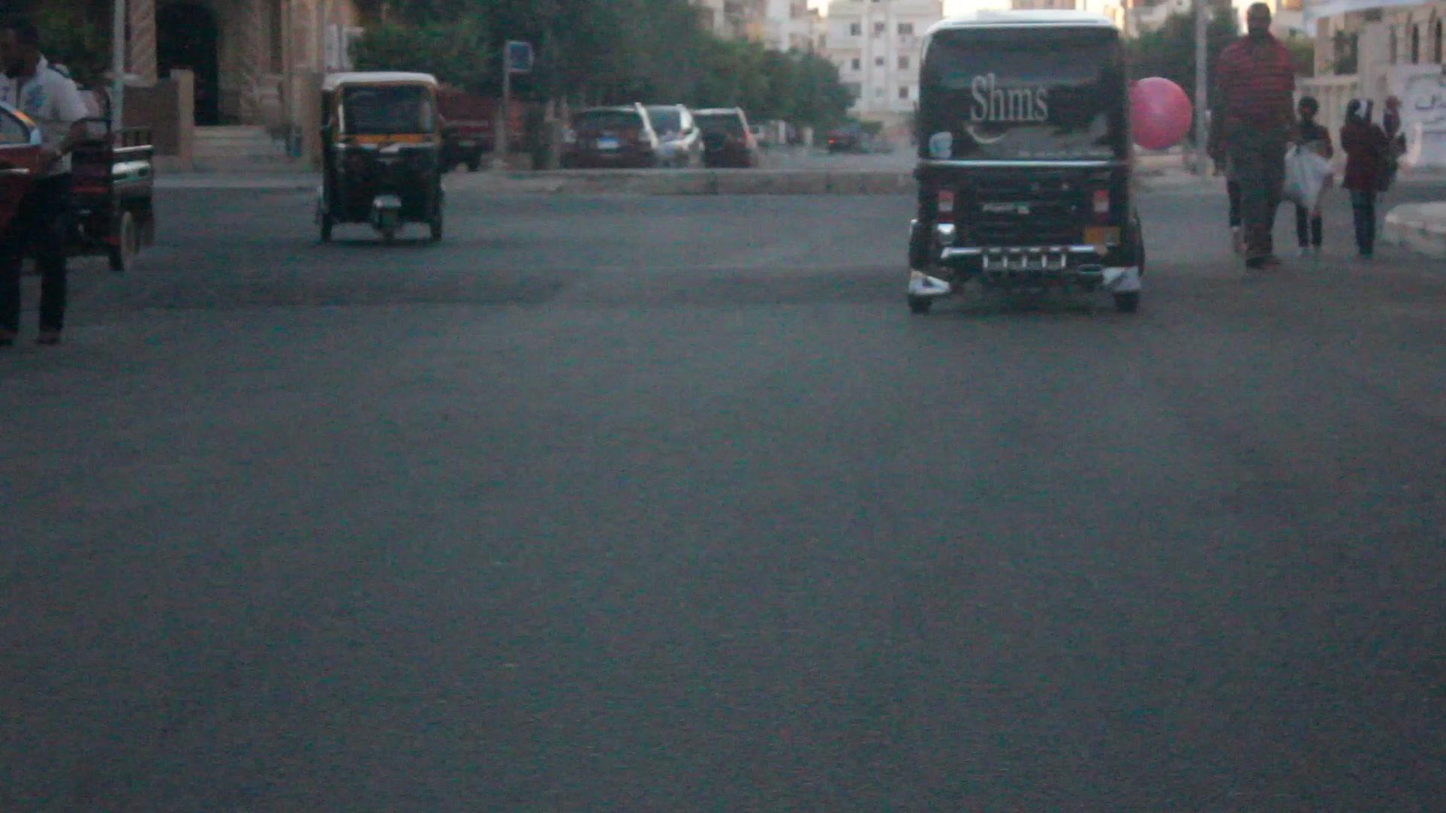Bump: (98, 252, 911, 320), (1162, 250, 1444, 312)
